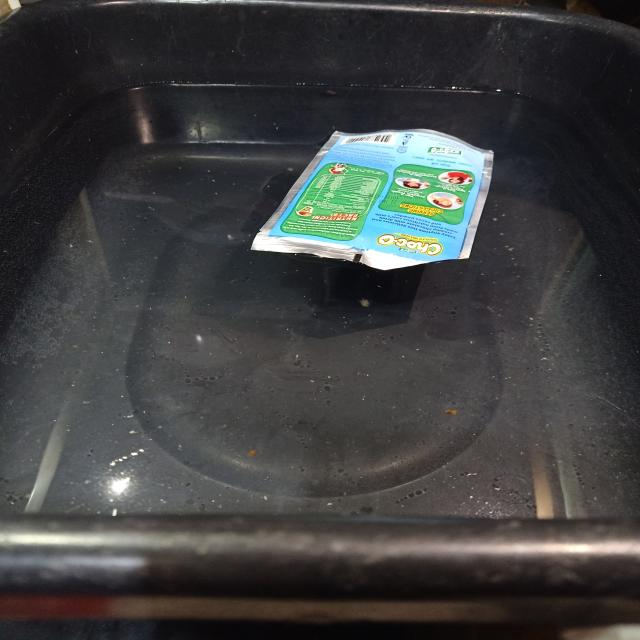Plastic Pouch: (251, 129, 493, 271)
